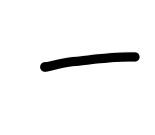minus: (41, 52, 139, 72)
